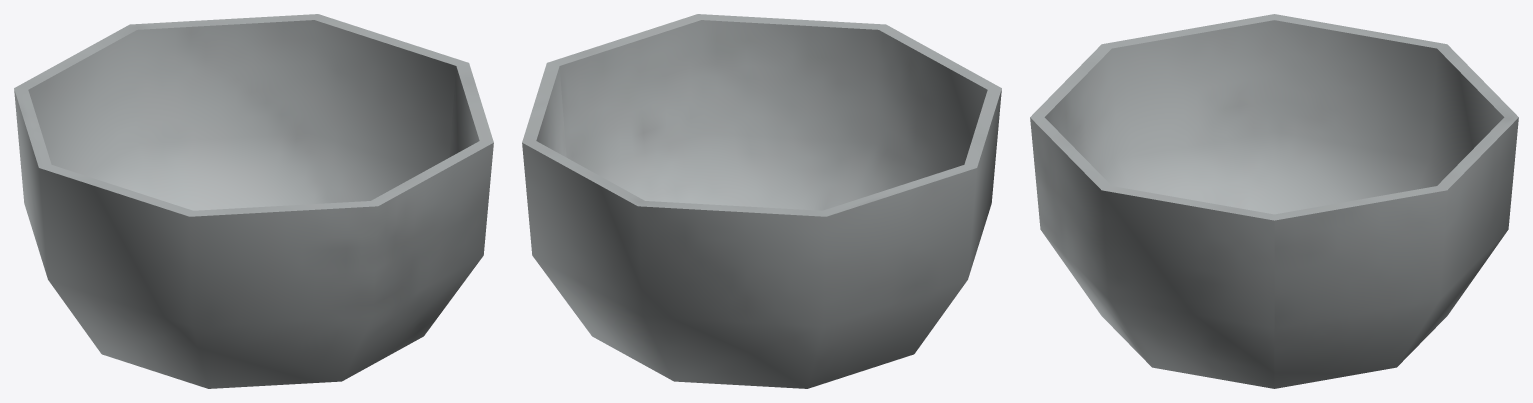
The model's file is bowl_ceramic.obj.
3 renders of one model, left to right at view 1: azimuth 30°, elevation 25°; view 2: azimuth 150°, elevation 25°; view 3: azimuth 270°, elevation 25°, orthographic.
Visible parts, largest first — view 1: bowl_ceramics; view 2: bowl_ceramics; view 3: bowl_ceramics.
Boxes of the visible parts, x1,y1,x2,y2 form: bowl_ceramics: [14, 14, 493, 388]; bowl_ceramics: [522, 14, 1001, 388]; bowl_ceramics: [1030, 14, 1518, 388].
Size of the model in its own units: 0.5578 by 0.25 by 0.5578.
